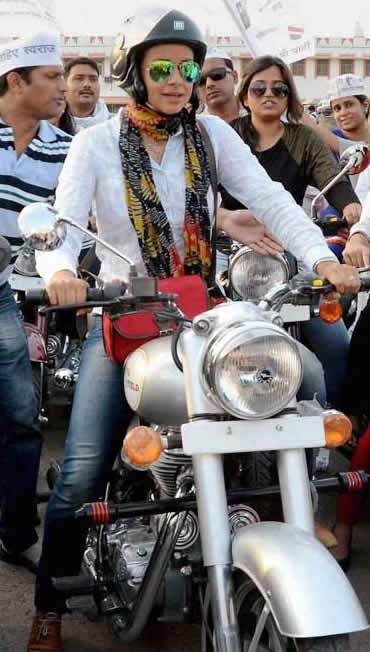helmet: (102, 3, 218, 113)
